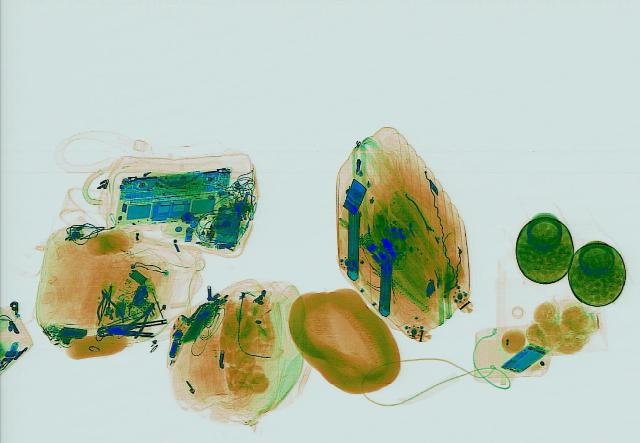Pliers: (118, 299, 162, 338), (90, 288, 126, 323)
